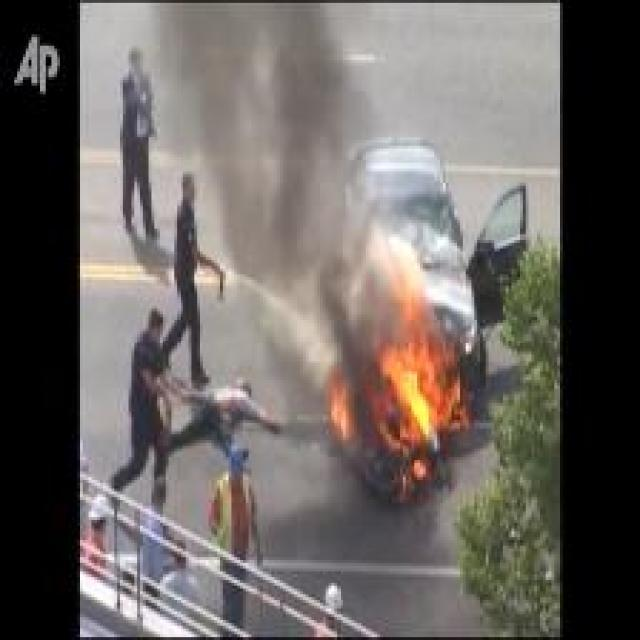Fire: (370, 255, 467, 456), (328, 382, 352, 438)
Smoke: (152, 1, 363, 161), (210, 163, 366, 333)
